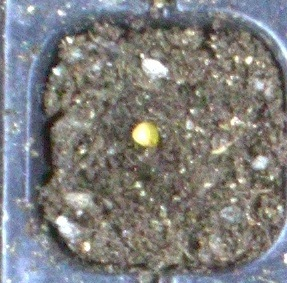chilli seed: (130, 121, 160, 148)
